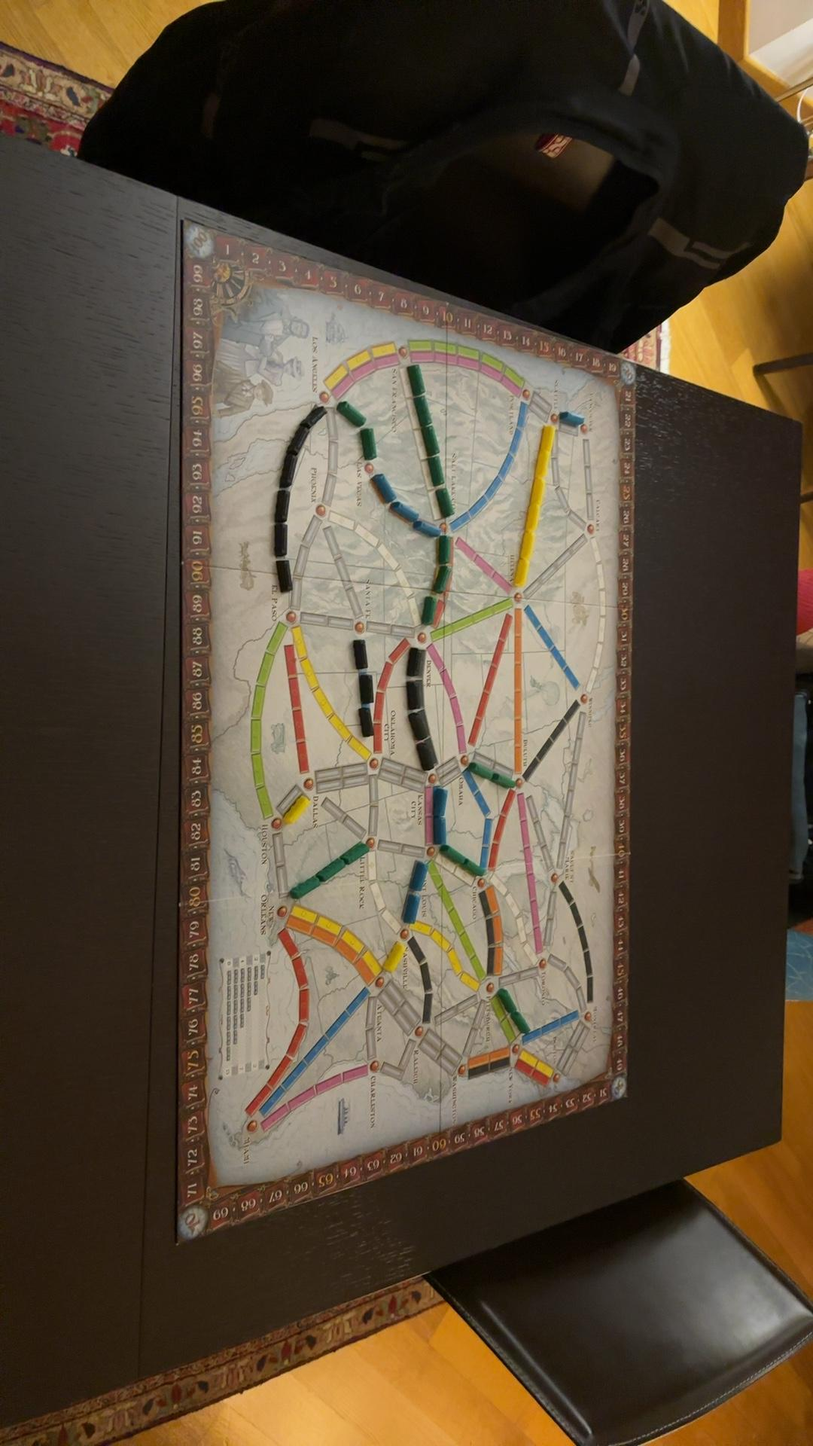black_train: (280, 450, 297, 488), (407, 647, 425, 680), (275, 487, 289, 524), (277, 559, 291, 592), (274, 523, 287, 557), (358, 706, 373, 735), (353, 640, 365, 670), (418, 743, 431, 770)
blue_train: (372, 474, 395, 504), (391, 499, 418, 521), (409, 862, 427, 892), (413, 519, 440, 536), (560, 410, 584, 426)
green_train: (337, 401, 365, 427), (340, 843, 369, 864), (407, 364, 425, 395), (436, 486, 453, 517), (415, 395, 431, 427), (433, 565, 450, 595), (422, 423, 438, 454), (361, 428, 376, 460), (428, 456, 443, 484), (422, 595, 436, 624), (437, 535, 450, 563)
yellow_train: (383, 938, 405, 972), (284, 795, 309, 822)
